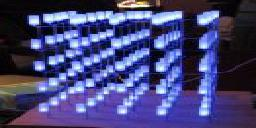LED: (23, 13, 218, 119)
